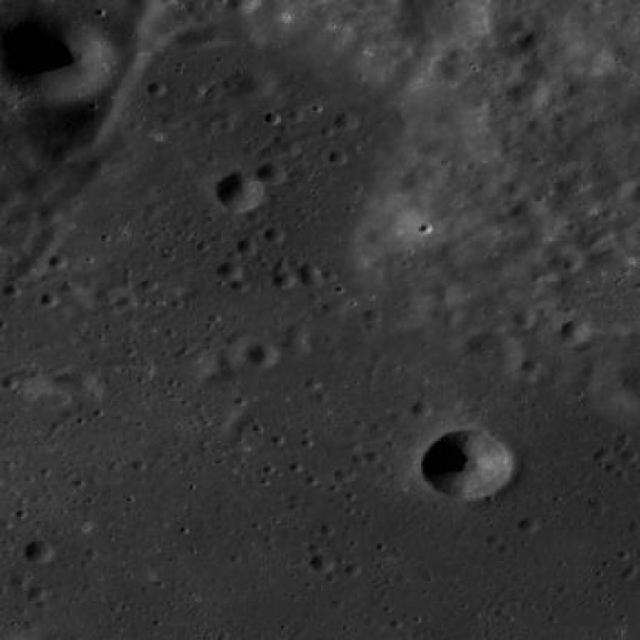crater: (0, 13, 112, 107), (421, 430, 514, 501), (402, 0, 490, 49), (463, 331, 523, 377), (215, 171, 268, 211), (232, 67, 276, 101), (60, 370, 104, 404), (18, 170, 58, 202), (510, 80, 550, 111), (424, 279, 461, 307), (0, 224, 32, 255), (4, 210, 38, 236), (558, 319, 590, 344), (23, 540, 54, 565), (256, 162, 286, 186), (246, 344, 276, 367), (126, 0, 160, 18), (217, 262, 243, 282), (284, 337, 310, 357), (36, 206, 61, 226), (310, 554, 335, 574), (512, 309, 536, 328), (0, 184, 18, 209), (334, 112, 358, 130), (146, 80, 168, 97), (502, 180, 524, 197), (516, 517, 538, 534), (274, 272, 297, 288), (236, 238, 256, 255), (115, 292, 136, 308), (38, 291, 58, 307), (302, 273, 322, 289), (520, 358, 540, 374), (264, 228, 284, 243), (411, 401, 431, 416)
